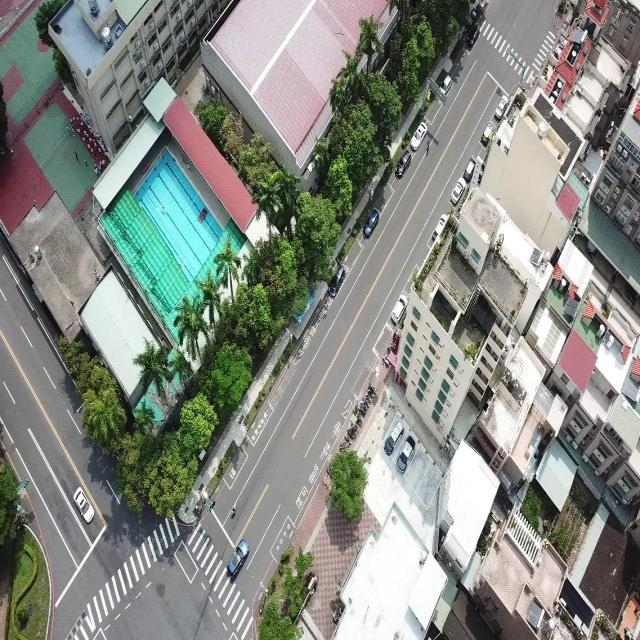bike: (230, 502, 238, 519), (359, 399, 368, 412), (344, 432, 352, 445), (208, 498, 216, 511), (347, 428, 355, 440), (350, 424, 358, 436), (368, 386, 376, 398), (365, 392, 373, 403), (363, 397, 371, 408)
car: (227, 537, 249, 577), (73, 485, 95, 523), (383, 417, 405, 454), (397, 436, 416, 474), (328, 266, 346, 300), (409, 120, 427, 151), (432, 213, 449, 243), (363, 207, 379, 238), (391, 295, 408, 324), (396, 149, 412, 178), (494, 90, 508, 119), (451, 178, 466, 205), (464, 154, 477, 182), (438, 75, 453, 99), (467, 23, 481, 47), (481, 123, 494, 146)
